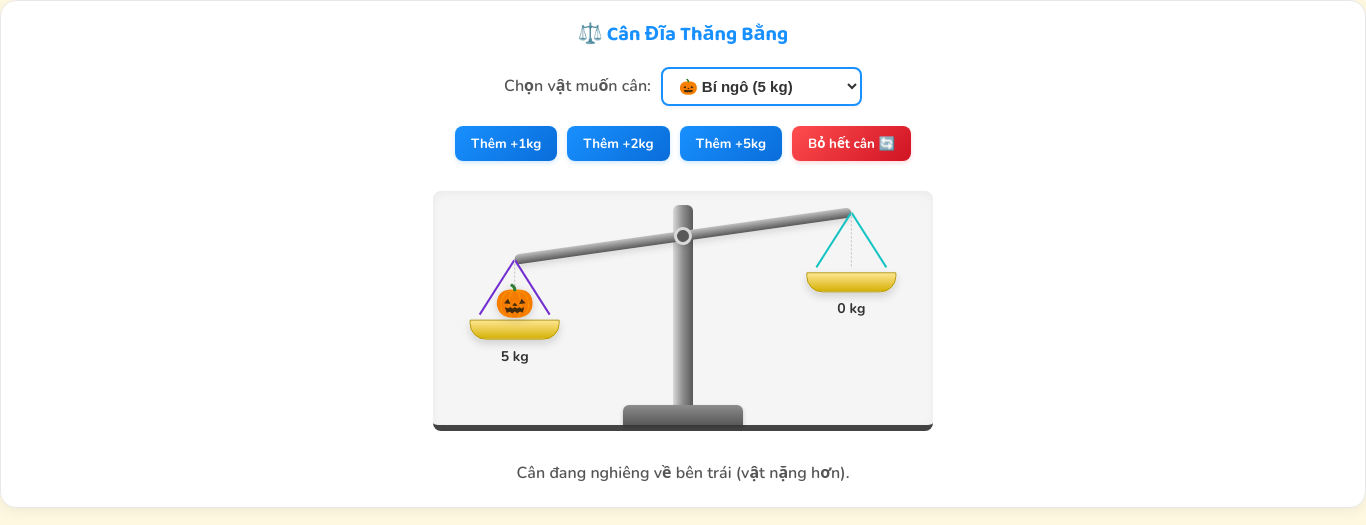
Test: BalanceScale visualizer › renders initial state and interacts with weights
Check: the element with test id "scale-status" shows "Cân đang nghiêng về bên trái", box [516,462,849,484]
Click the button with test id "btn-add-1": (506, 144) [455,126,557,161]
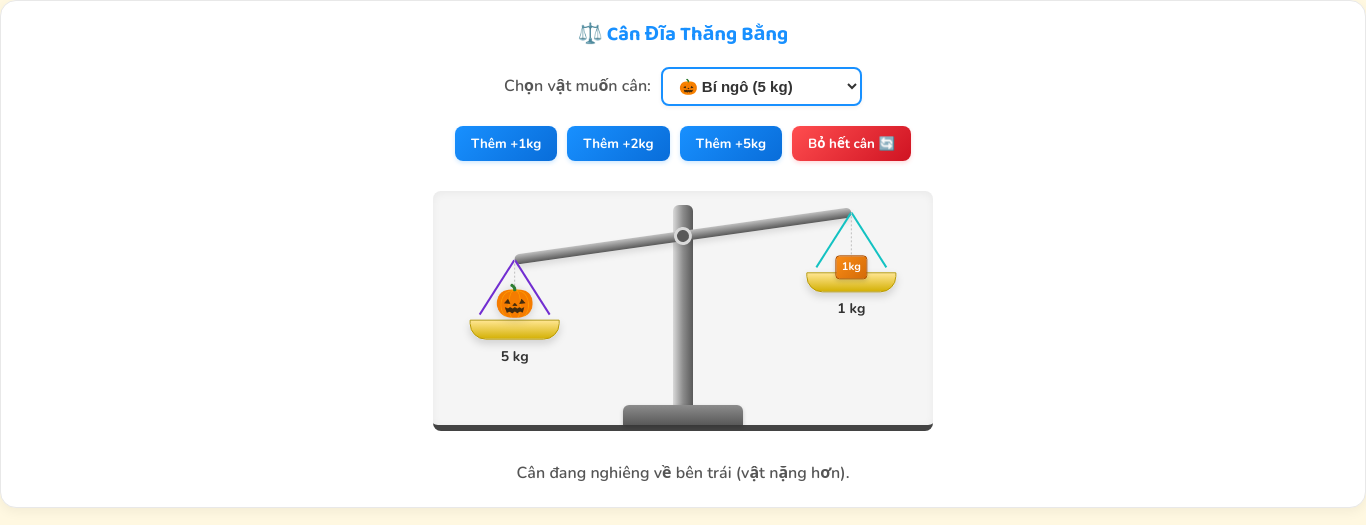
Click the button with test id "btn-add-1": (506, 144) [455,126,557,161]
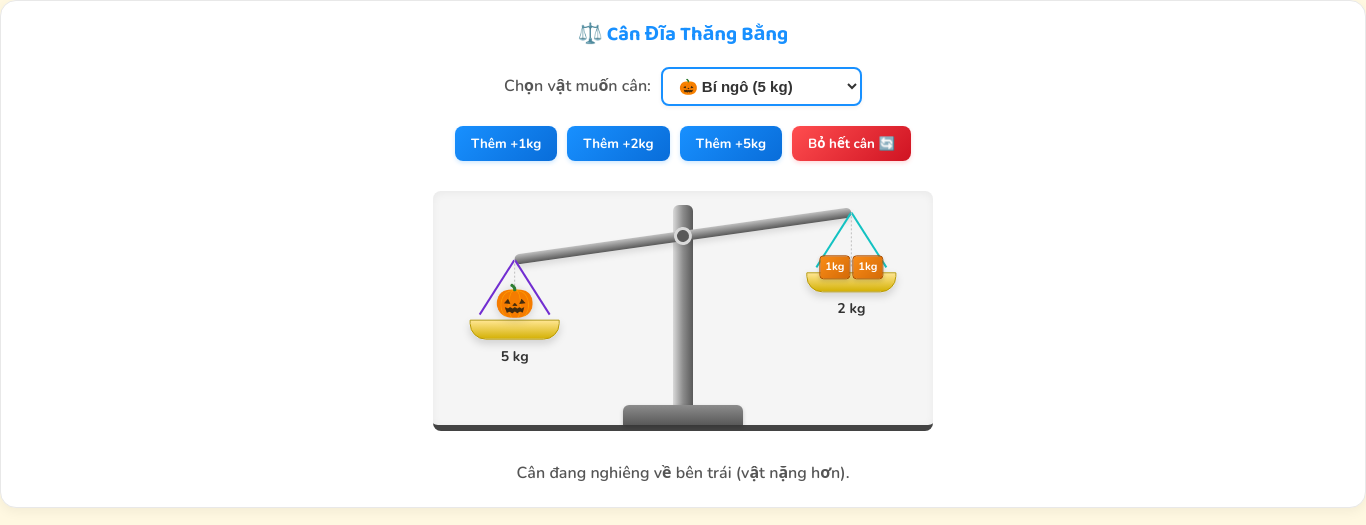
Click the button with test id "btn-add-1": (506, 144) [455,126,557,161]
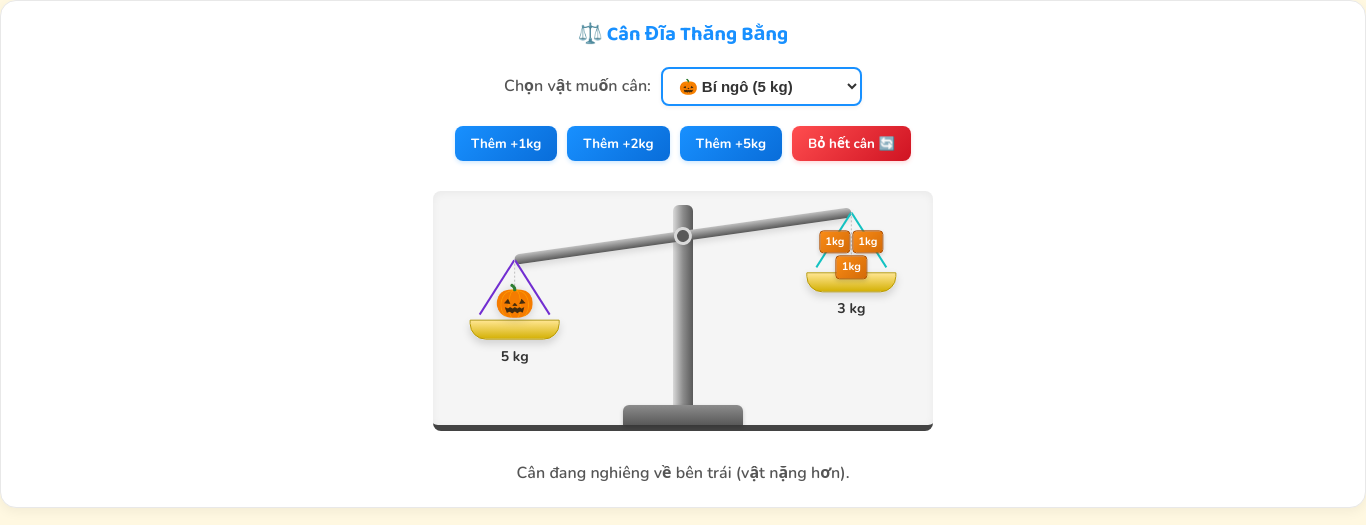
Click the button with test id "btn-add-1": (506, 144) [455,126,557,161]
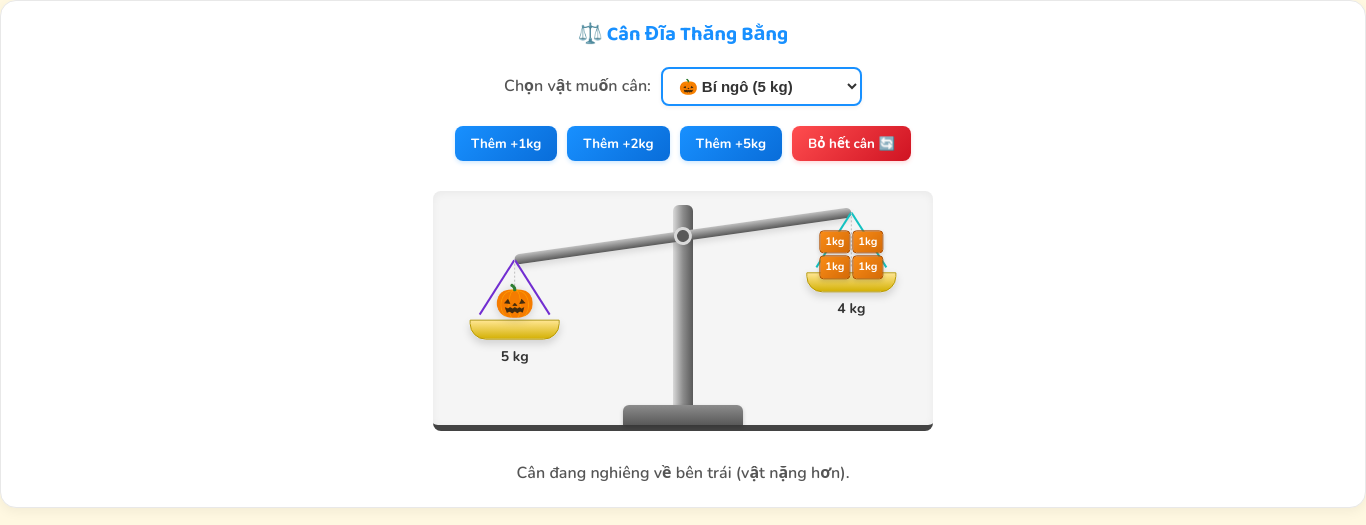
Click the button with test id "btn-add-1": (506, 144) [455,126,557,161]
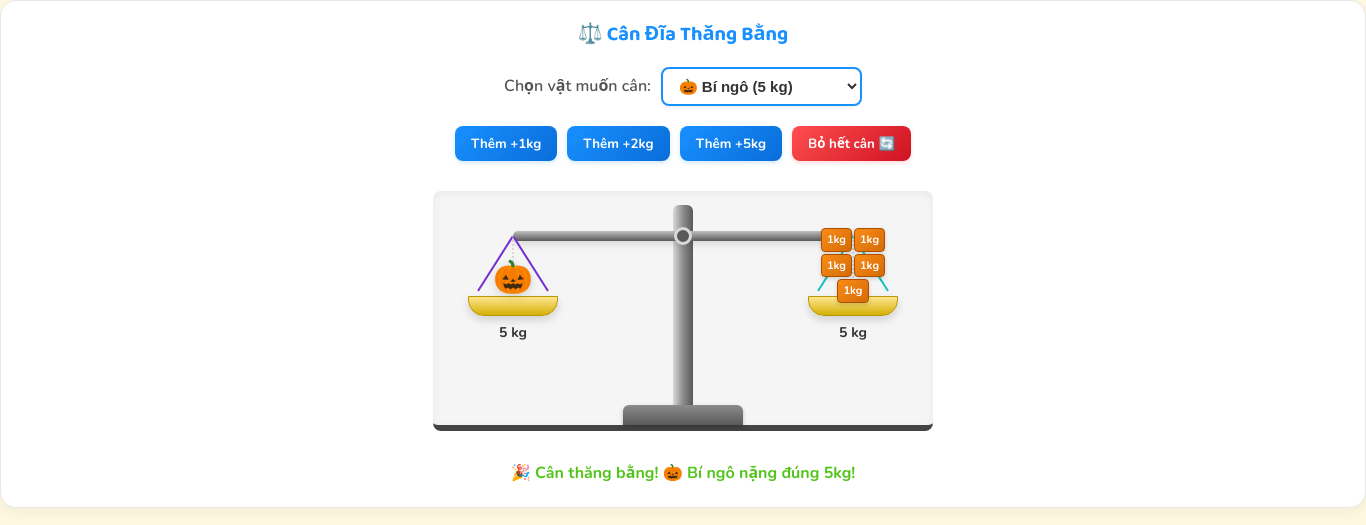
Check: the element with test id "scale-status" shows "Cân thăng bằng", box [511,462,663,484]
